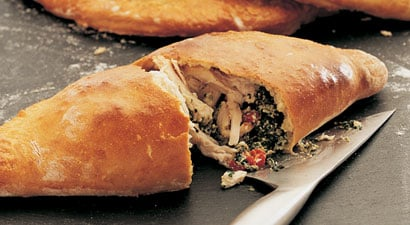soup: (136, 30, 390, 173), (1, 65, 194, 199)
